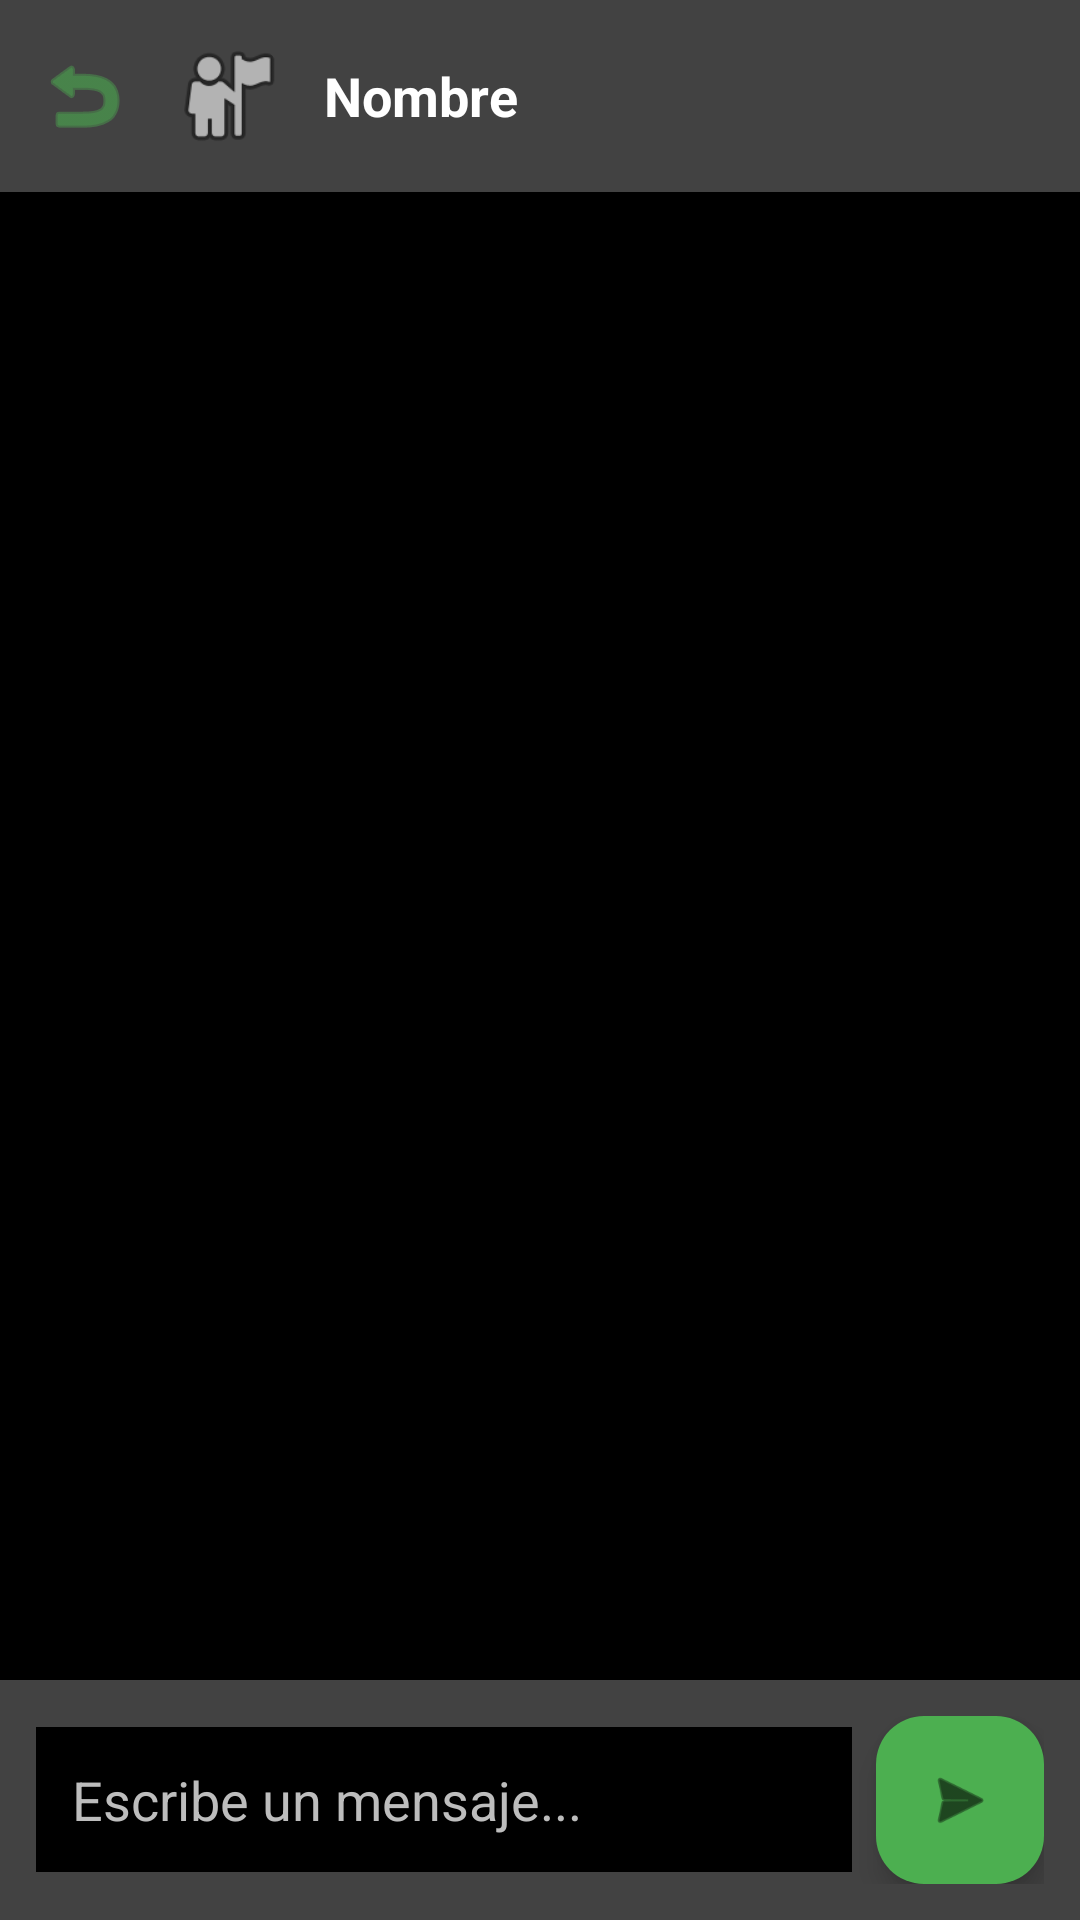

Screen size 1080*1920. Icon name, then its box in pixels as (x1, y1, x2, y2):
myplaces: (186, 53, 273, 139)
revert: (51, 66, 119, 128)
send: (876, 1716, 1044, 1884)
